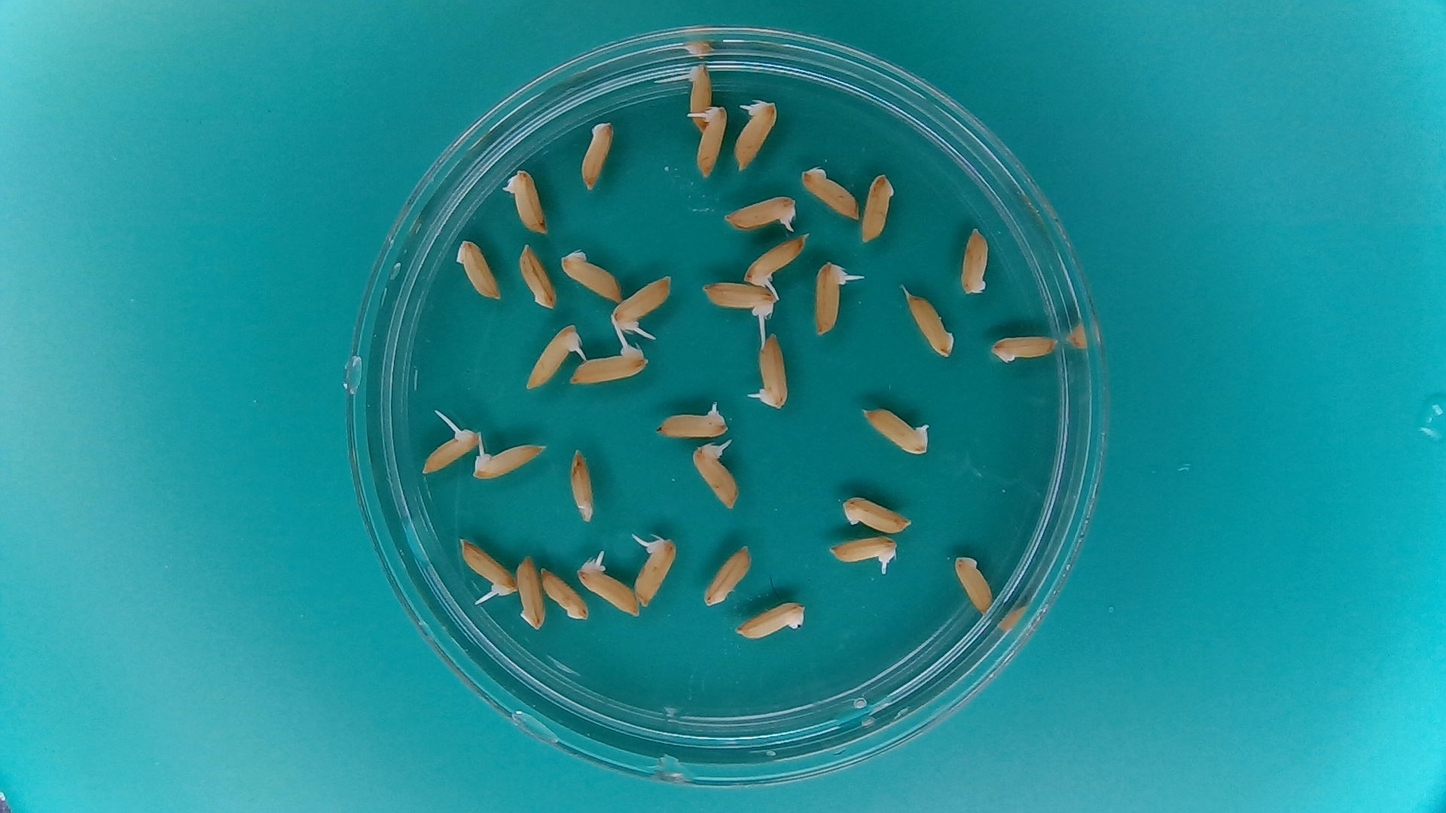no: (798, 160, 864, 222), (557, 246, 624, 305), (903, 287, 955, 357), (856, 167, 898, 248), (948, 550, 997, 619), (514, 239, 559, 313), (837, 493, 914, 536), (702, 541, 752, 607), (577, 116, 615, 196), (956, 218, 993, 300), (735, 600, 808, 641), (456, 237, 502, 301), (541, 565, 589, 622), (565, 443, 598, 525), (987, 330, 1061, 366), (514, 551, 542, 632)
yes: (577, 550, 641, 618), (524, 323, 581, 394), (690, 439, 742, 511), (720, 190, 804, 234), (651, 397, 731, 440), (612, 276, 674, 331), (734, 99, 778, 176), (458, 540, 515, 599), (568, 346, 647, 387), (861, 407, 931, 453), (502, 169, 550, 236), (754, 332, 795, 410), (419, 423, 477, 477), (744, 235, 804, 287), (825, 534, 901, 573), (633, 536, 673, 609), (813, 259, 850, 335), (472, 443, 548, 480), (705, 281, 777, 320), (683, 58, 715, 132), (694, 105, 725, 174)
